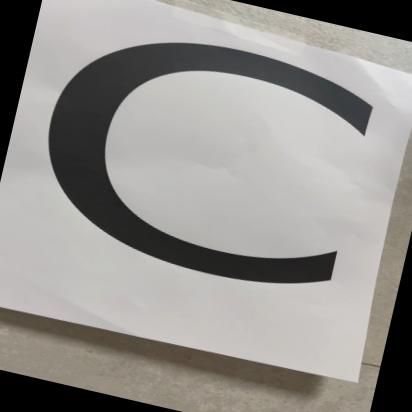seat: (0, 0, 398, 366)
